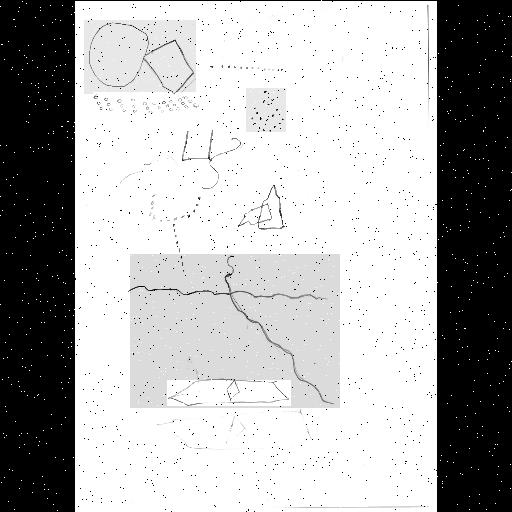shape-1: (84, 20, 196, 94)
shape-2: (205, 58, 287, 80)
shape-3: (93, 92, 199, 118)
shape-4: (246, 88, 286, 132)
shape-5: (180, 126, 240, 190)
shape-6: (148, 188, 202, 274)
shape-7: (130, 254, 340, 408)
shape-8: (238, 182, 288, 232)
shape-9: (167, 380, 291, 406)
